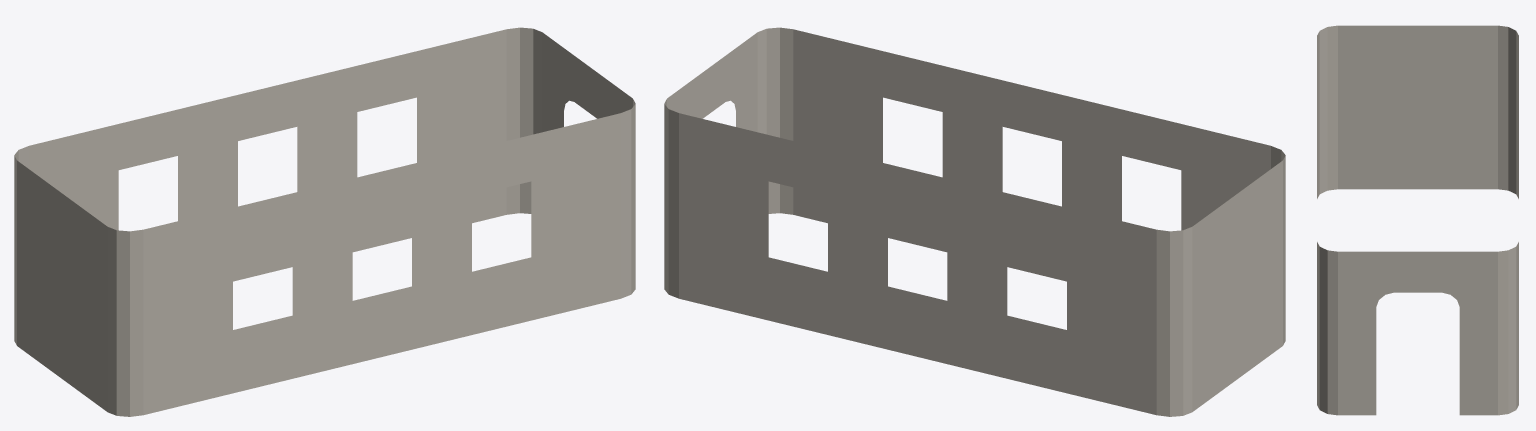
File: Bld_C_low_L2_A.fbx
3 views of the same model, side by side, from view 1: azimuth 30°, elevation 25°; view 2: azimuth 150°, elevation 25°; view 3: azimuth 270°, elevation 25° (orthographic). The views are drawn at different scales.
Visible parts, largest first — view 1: Bld_C_low_L2_A_LOD0; view 2: Bld_C_low_L2_A_LOD0; view 3: Bld_C_low_L2_A_LOD0.
Part boxes in pixels (<box>): Bld_C_low_L2_A_LOD0: <box>14,27,635,416</box>; Bld_C_low_L2_A_LOD0: <box>664,27,1285,416</box>; Bld_C_low_L2_A_LOD0: <box>1317,25,1518,415</box>.
Size of what is drawn, in the model's own units: 1300 by 486 by 500.
Materials: 1 (1 with a texture image).
